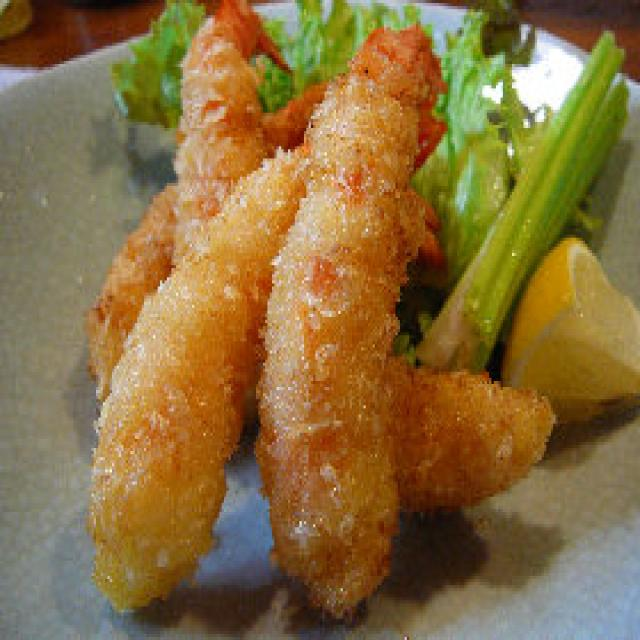炸货点心: (73, 0, 560, 640)
熟制海鲜: (73, 0, 560, 640)
